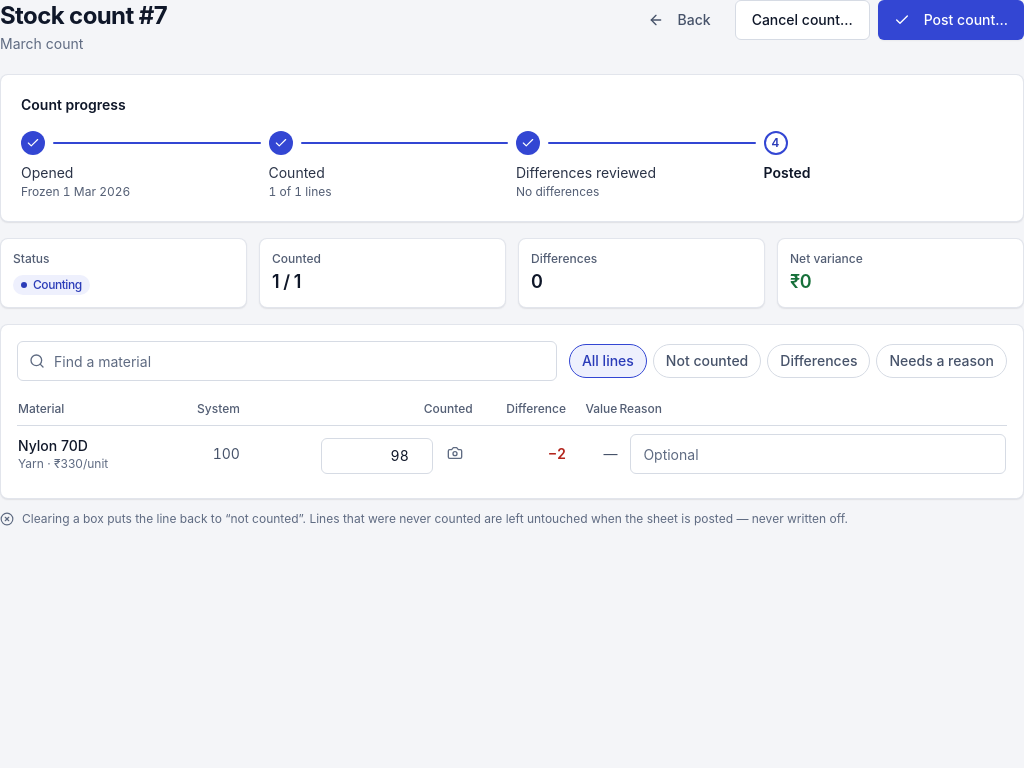
Test: when the sheet changed underneath › posts nothing more when the objection is cancelled
The width and height of the screenshot is (1024, 768).
Click the button "Post count…". click: (951,20)
box: [878,0,1023,40]
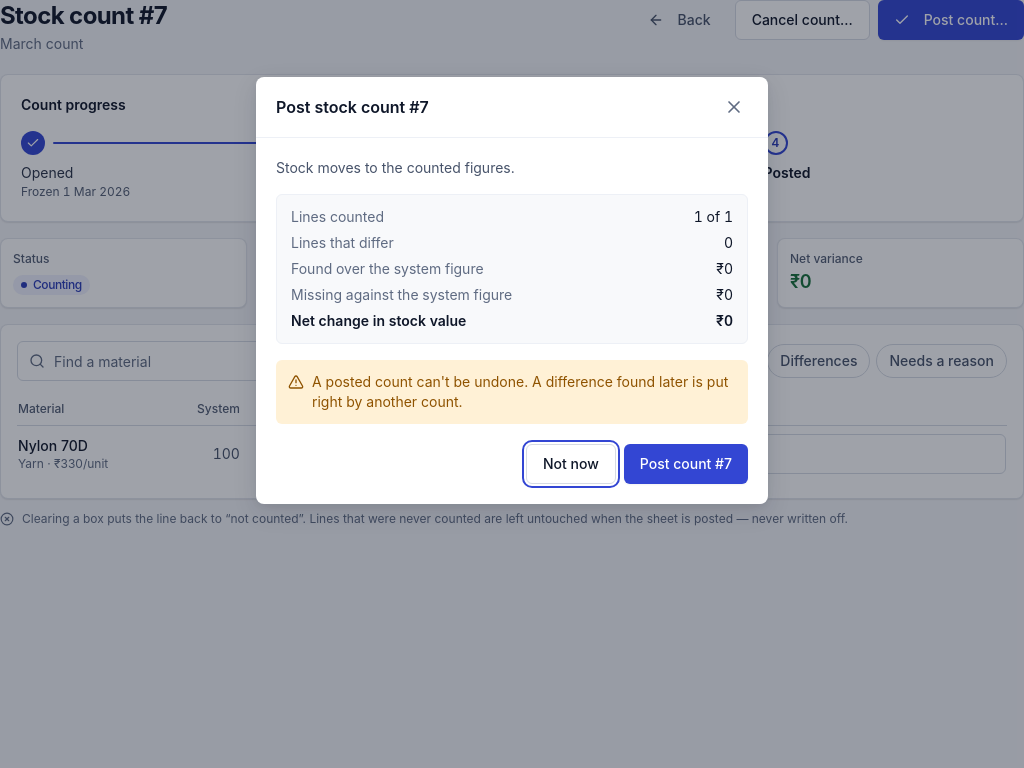
Click the button "Post count #7". click: (686,464)
box: [624,444,748,484]
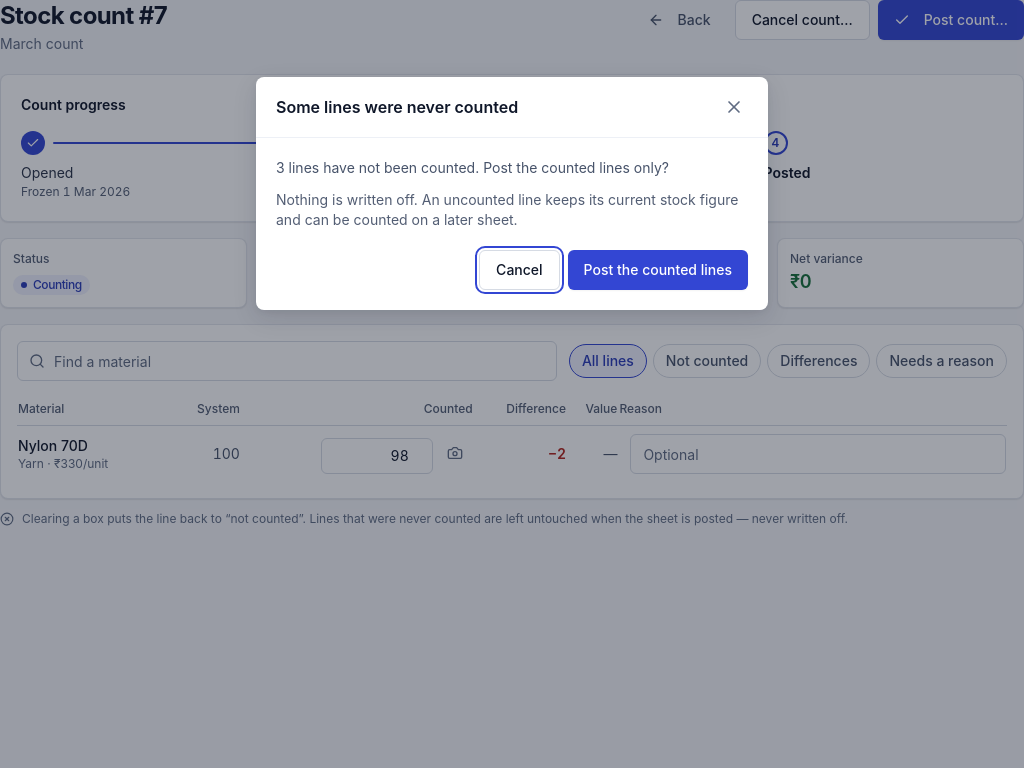
Now the text "3 lines have not been counted. Post the counted lines only?" is shown, box [276,159,669,176]
Click the button "Cancel". click: (519,270)
box: [479,250,560,290]
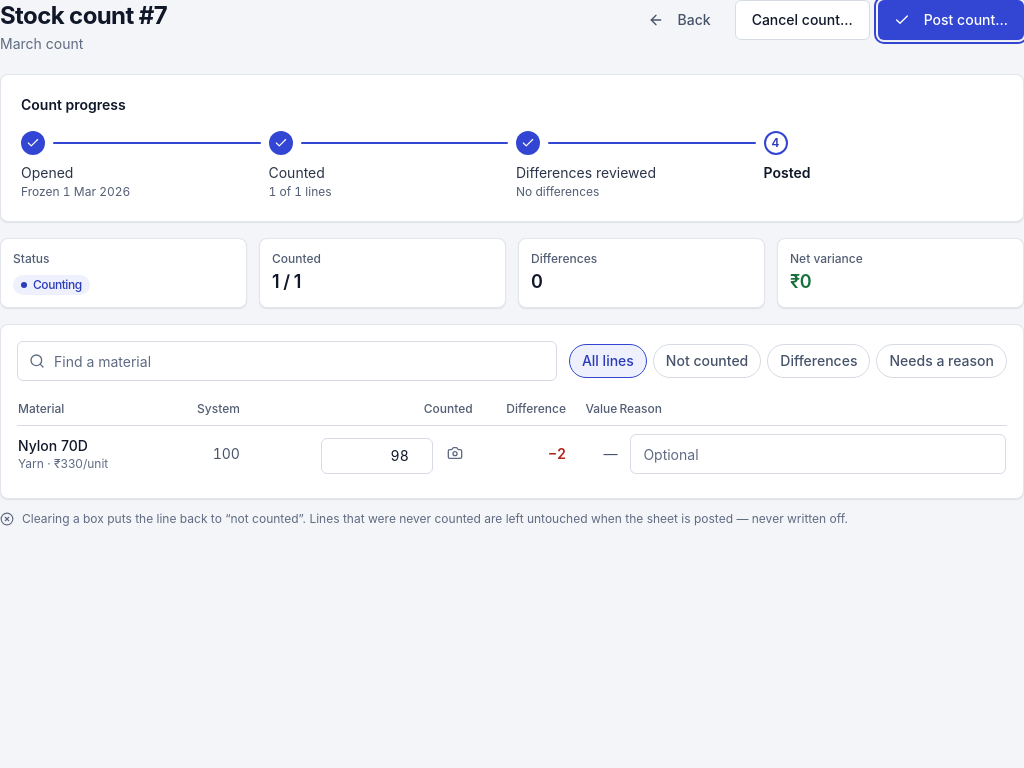
Now the dialog is gone
